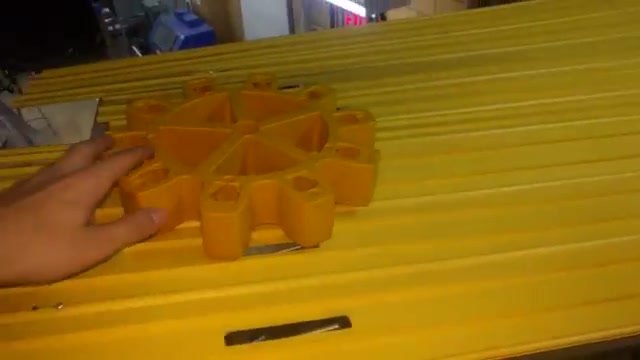gear: (88, 72, 391, 286)
